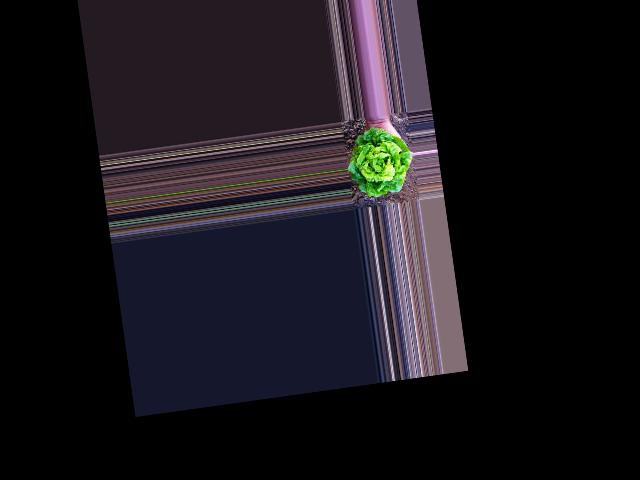lettuce: (345, 127, 415, 201)
